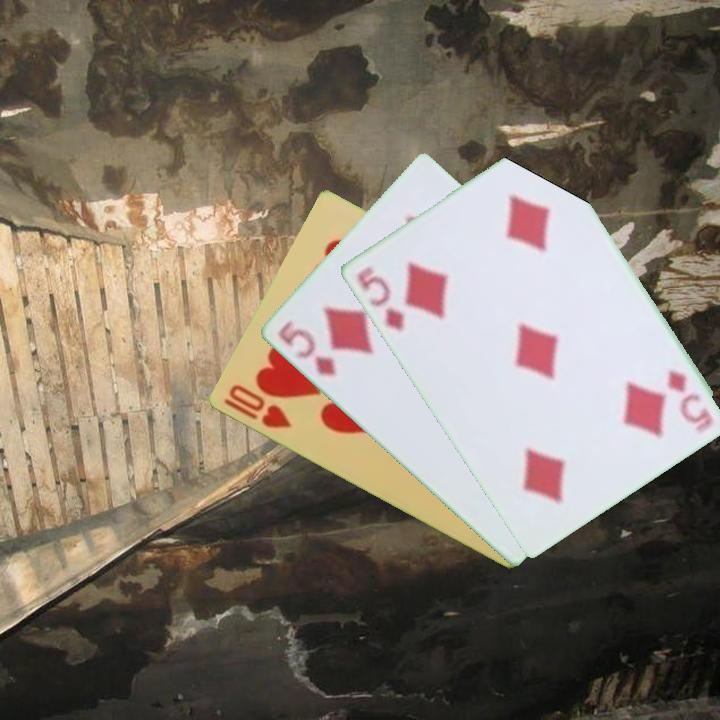10h: (220, 381, 294, 432)
5d: (274, 316, 339, 380), (353, 262, 407, 334), (662, 366, 715, 437)
